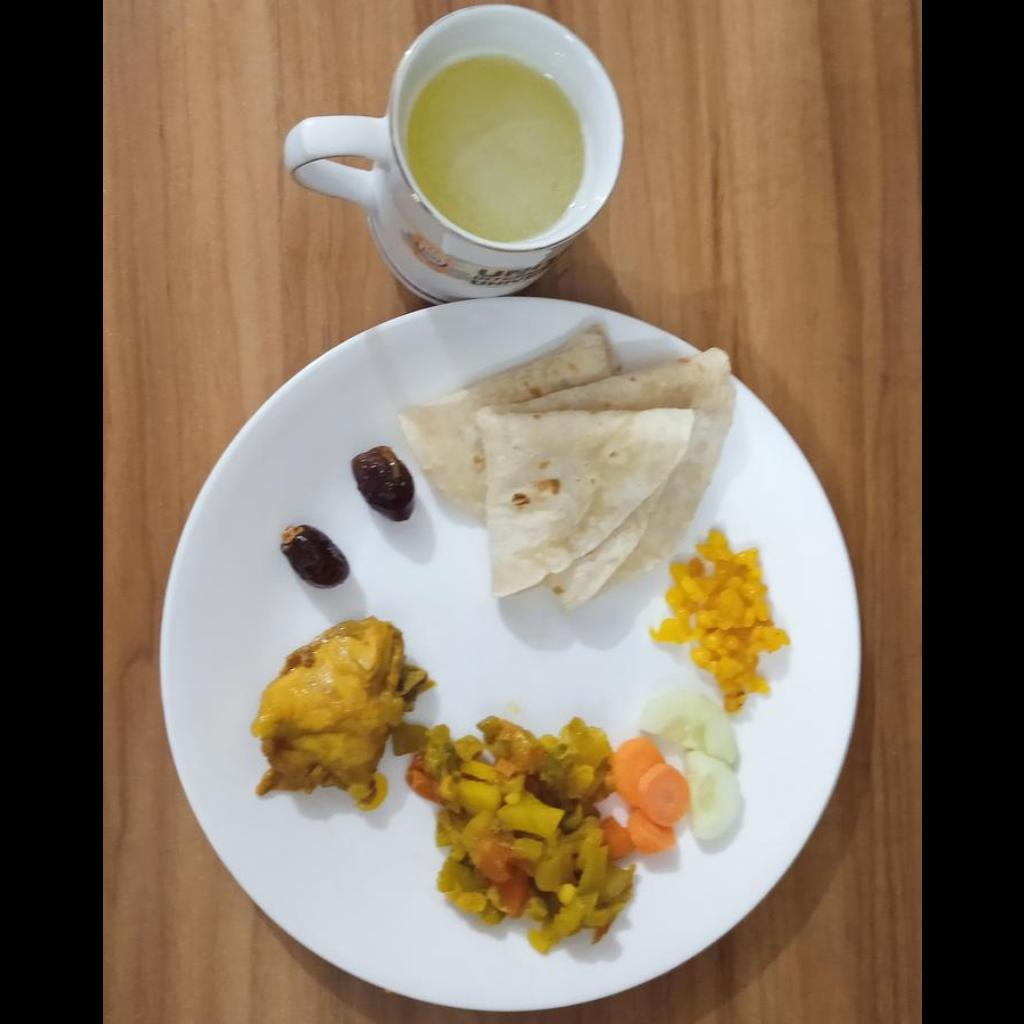burinda: (650, 530, 788, 715)
carrot: (611, 736, 688, 856)
chicken: (248, 616, 427, 803)
cucumber: (640, 686, 741, 845)
dates: (351, 446, 414, 521), (281, 525, 348, 587)
juice: (399, 56, 583, 240)
ruti: (389, 321, 734, 617)
vegetable: (391, 717, 633, 951)
